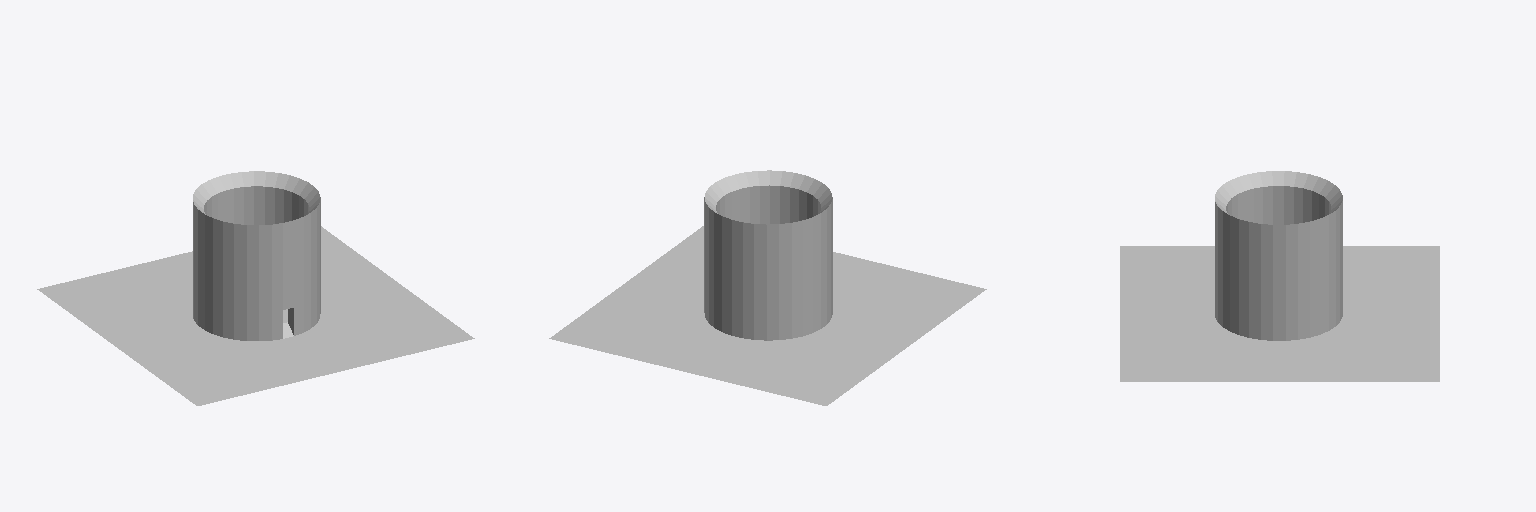
Rendered from tree_level.obj.
The picture shows the model from 3 angles: view 1: azimuth 30°, elevation 25°; view 2: azimuth 150°, elevation 25°; view 3: azimuth 270°, elevation 25°; orthographic projection.
Visible parts, largest first — view 1: Grass, Tree; view 2: Grass, Tree; view 3: Grass, Tree.
Part boxes in pixels (bbox=[...]): Grass: bbox=[37, 226, 474, 405]; Tree: bbox=[193, 171, 320, 340]; Grass: bbox=[549, 226, 986, 405]; Tree: bbox=[704, 170, 832, 340]; Grass: bbox=[1120, 246, 1439, 381]; Tree: bbox=[1215, 171, 1342, 340].
Bounding box in the file's own units: 500 × 200 × 500.